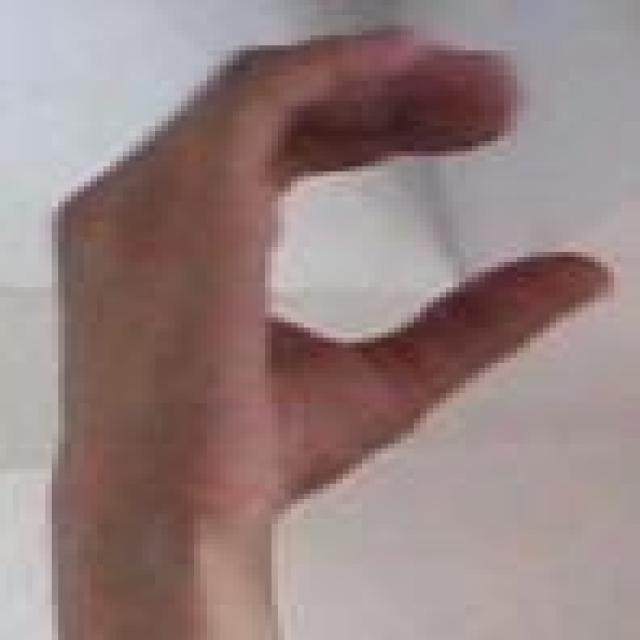C: (4, 2, 640, 530)
